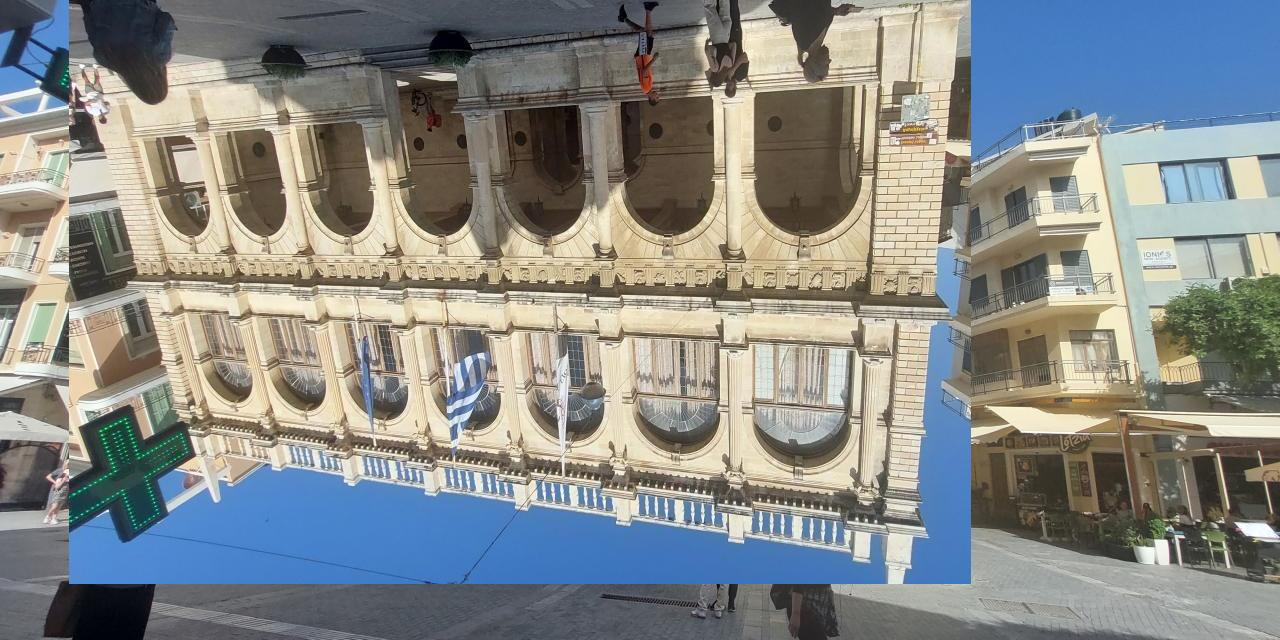Loggia: (70, 1, 972, 585)
